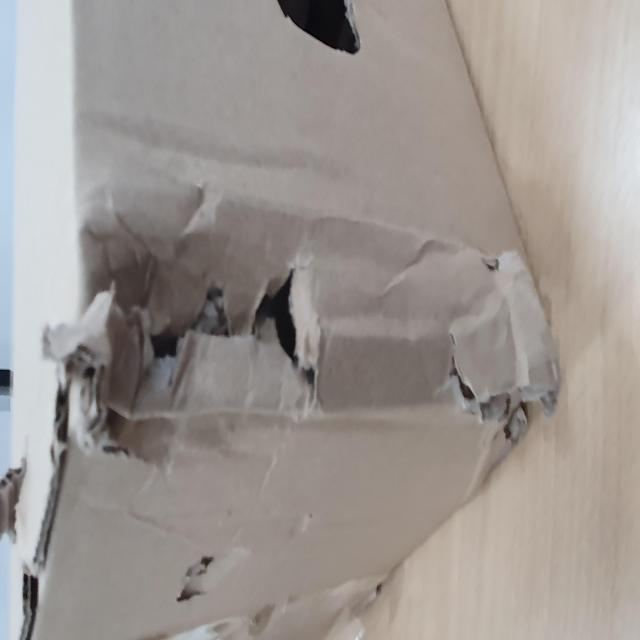damaged: (105, 133, 214, 544), (323, 493, 360, 628)
